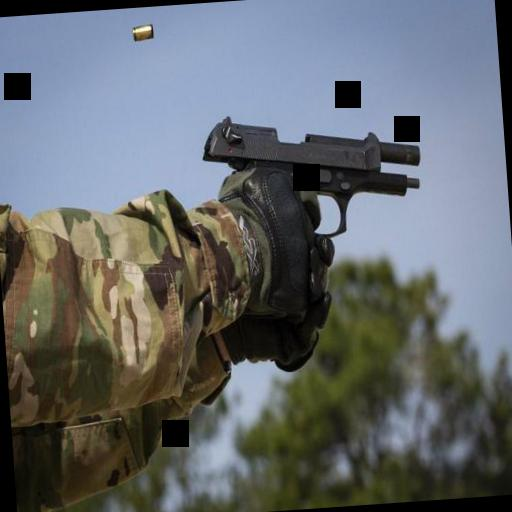Handgun: (198, 100, 426, 262)
